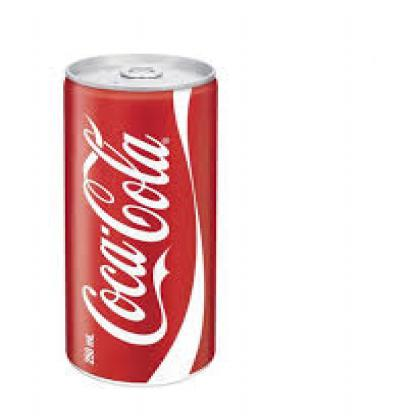METAL: (61, 50, 218, 386)
